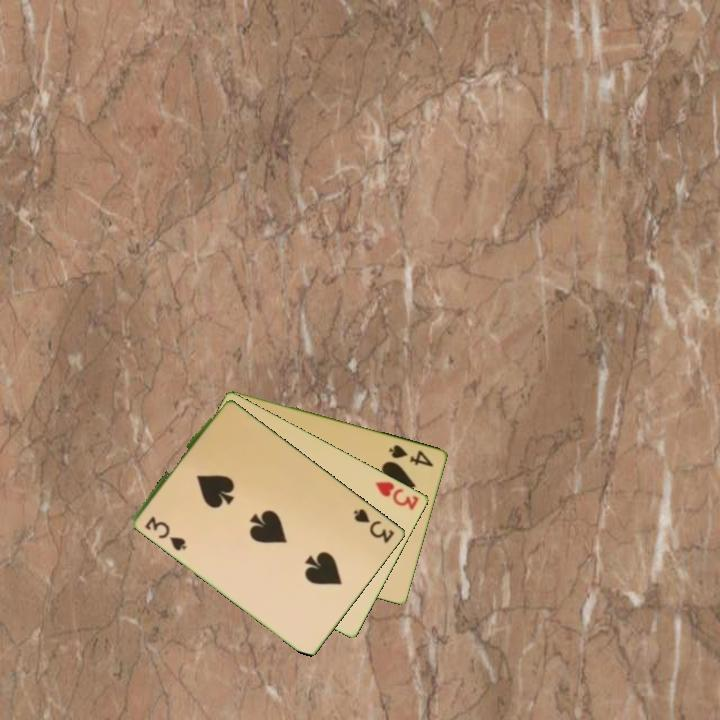3h: (372, 478, 422, 513)
3s: (142, 512, 189, 554), (350, 505, 398, 546)
4s: (386, 441, 437, 470)
